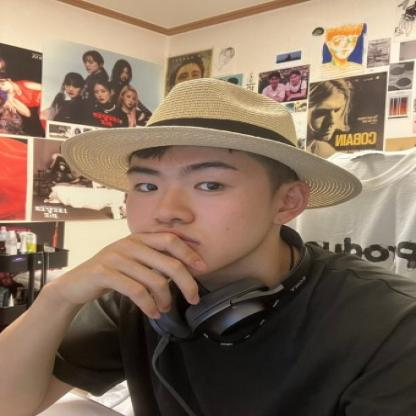hat: (57, 76, 364, 214)
